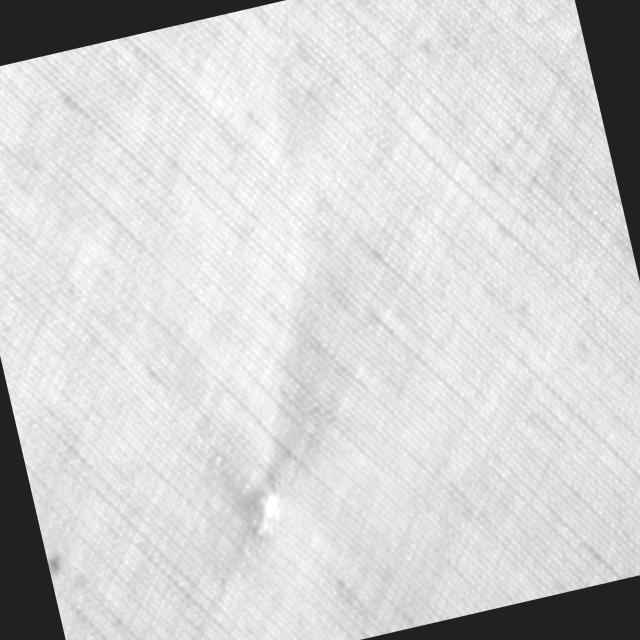hole: (241, 478, 290, 540)
